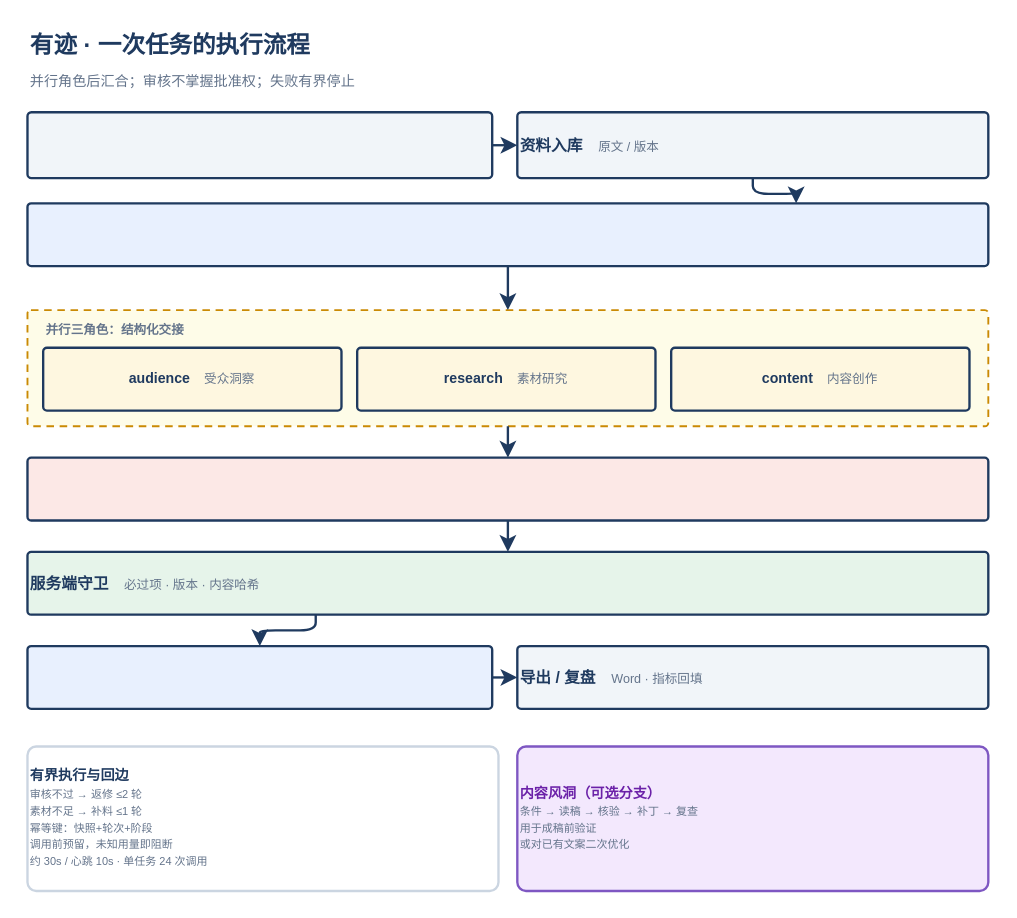
This 1017x918 diagram has some shape labels left out. The centre of each missing label's shape, as x and y in pixels:
reviewer 主编审核 三条引用校验 · 逐条 claim: pixel 507 488
人工确认 作者最终确认权: pixel 259 676
检索冻结快照 方法 / 样例 / 事实 三组: pixel 507 234
账号与定位 偏好 / 历史: pixel 259 144
